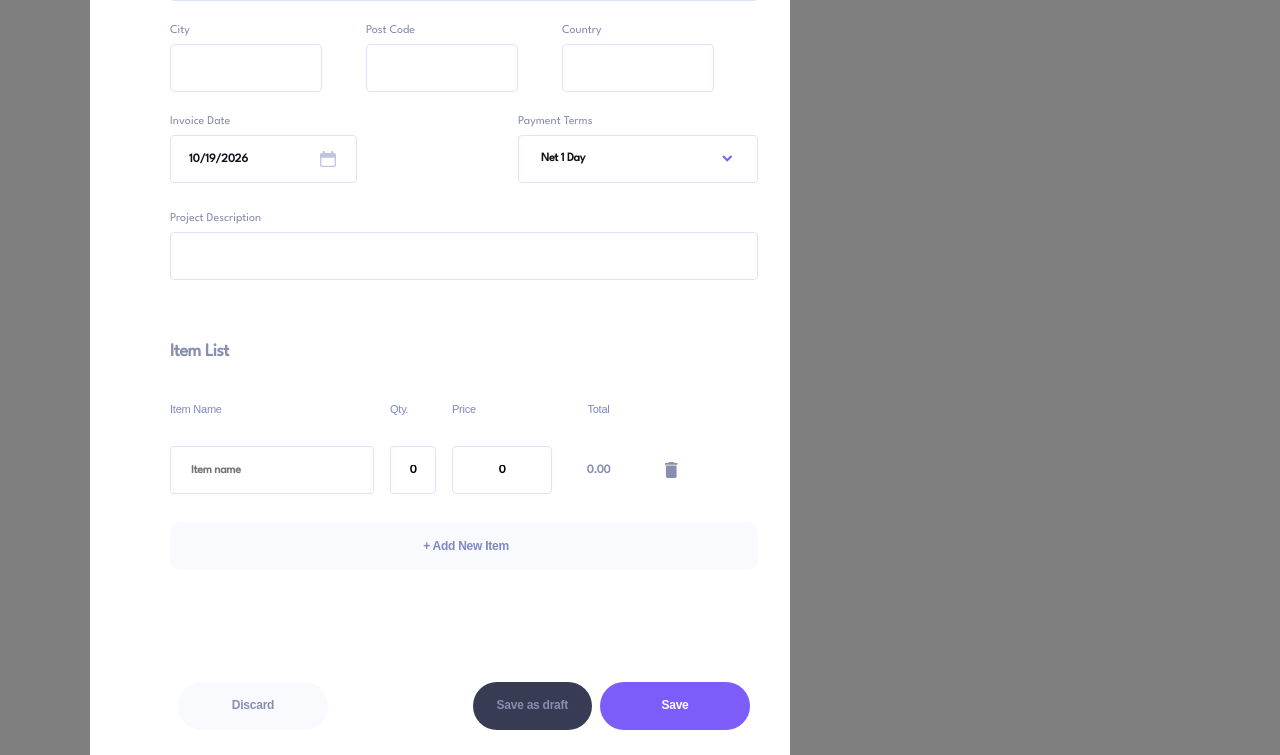
it: NewInvoiceForm - basic DOM elements › updates quantity, price and totals on a second item
(page scrolled)
Click the button with test id "newItemButton": x=464, y=546 [170,522,758,570]
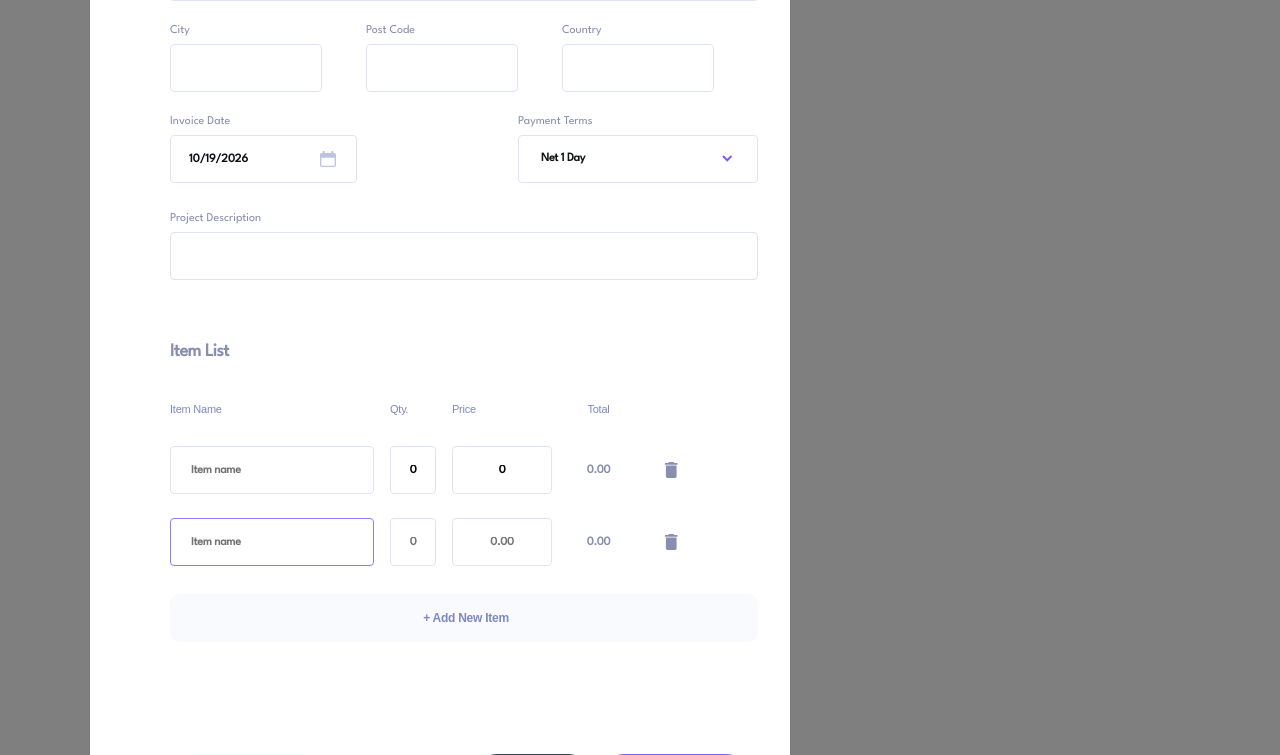
expect the number of list items with test id "invoice-item" is 2: met, box [170,434,758,506]; [170,506,758,578]
In the field with placeholder "0": x=413, y=542 [390,518,436,566], type "3"
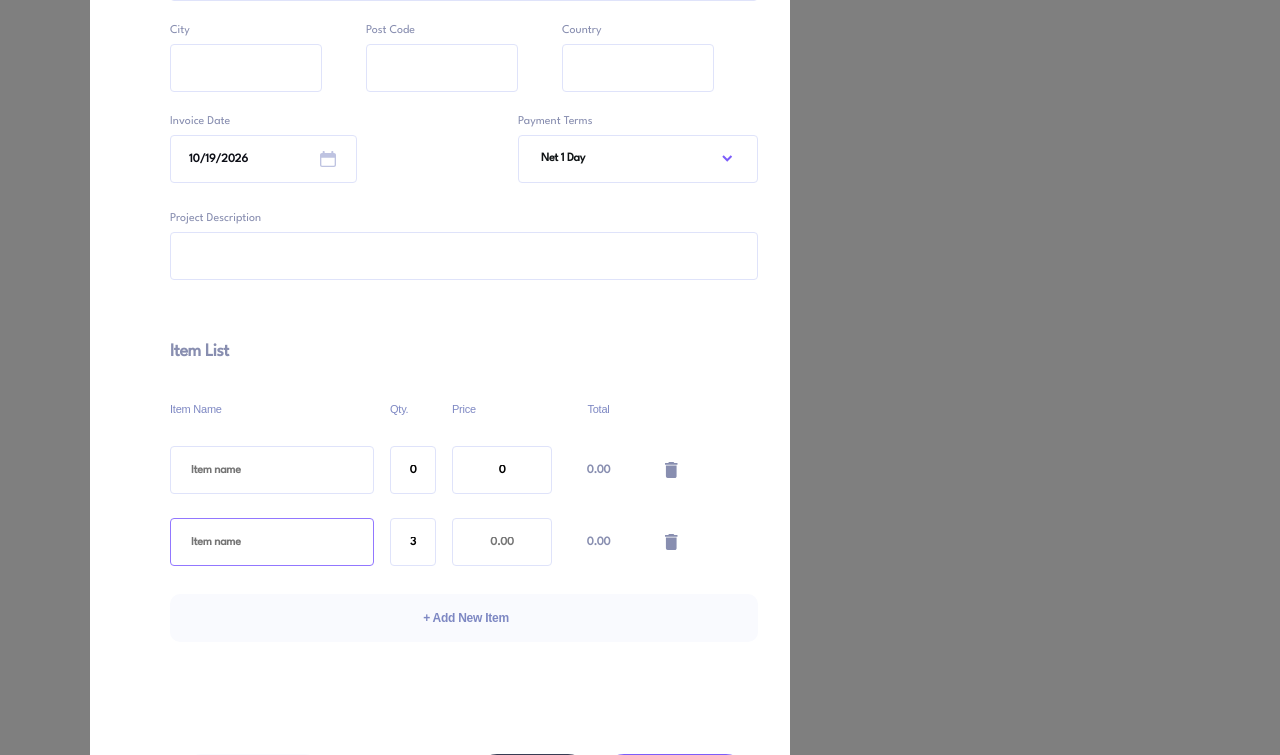
In the field with placeholder "0.00": x=502, y=542 [452,518,552,566], type "12.50"
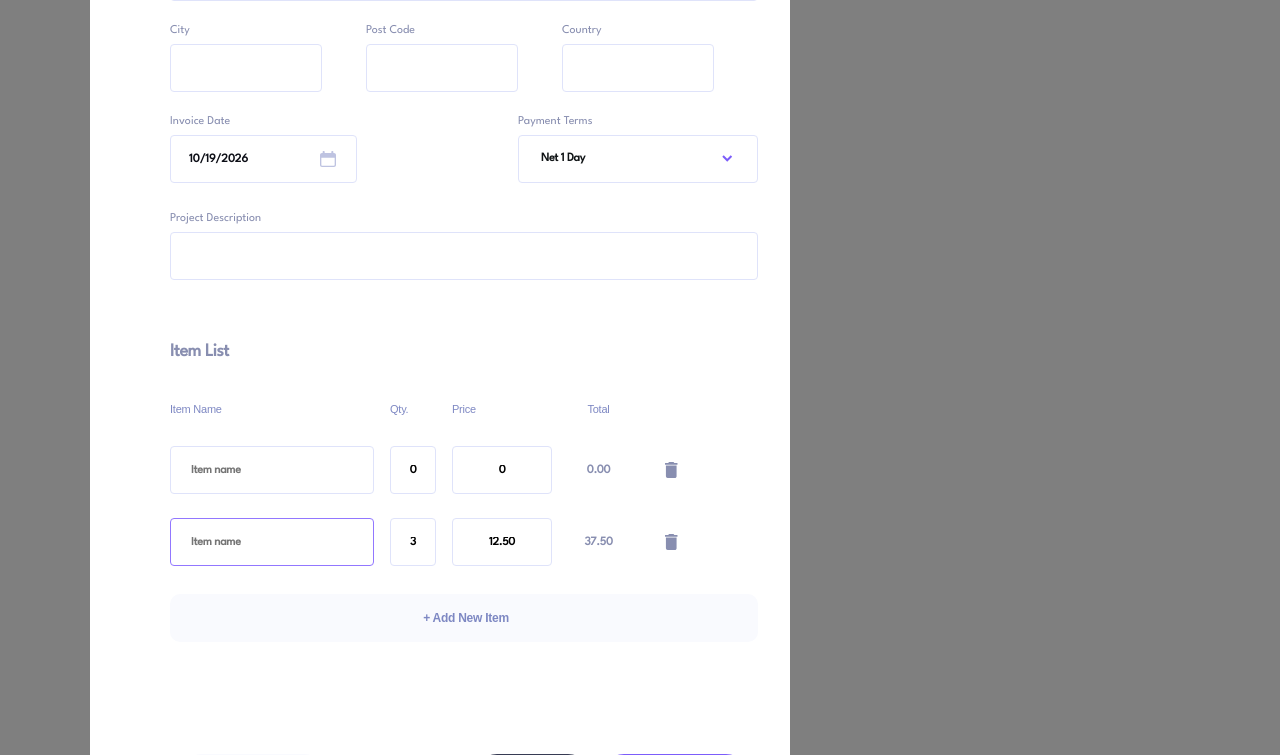
expect the text "37.50" is shown: met, box [584,537,613,548]
